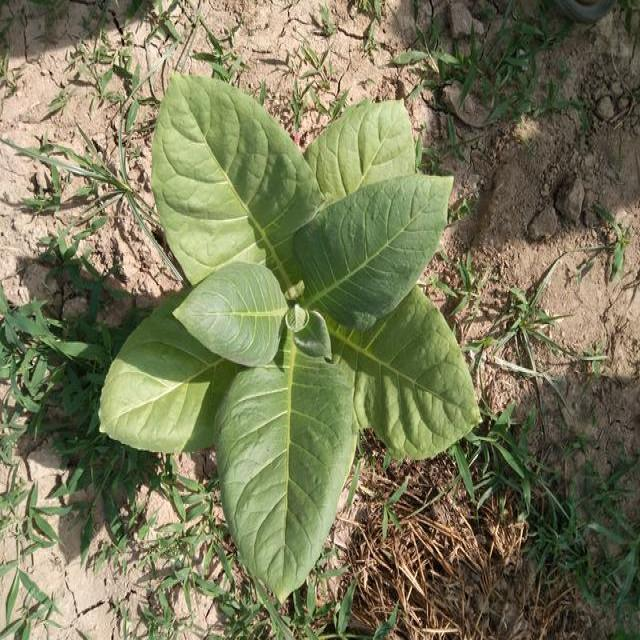crop: (98, 55, 490, 581)
